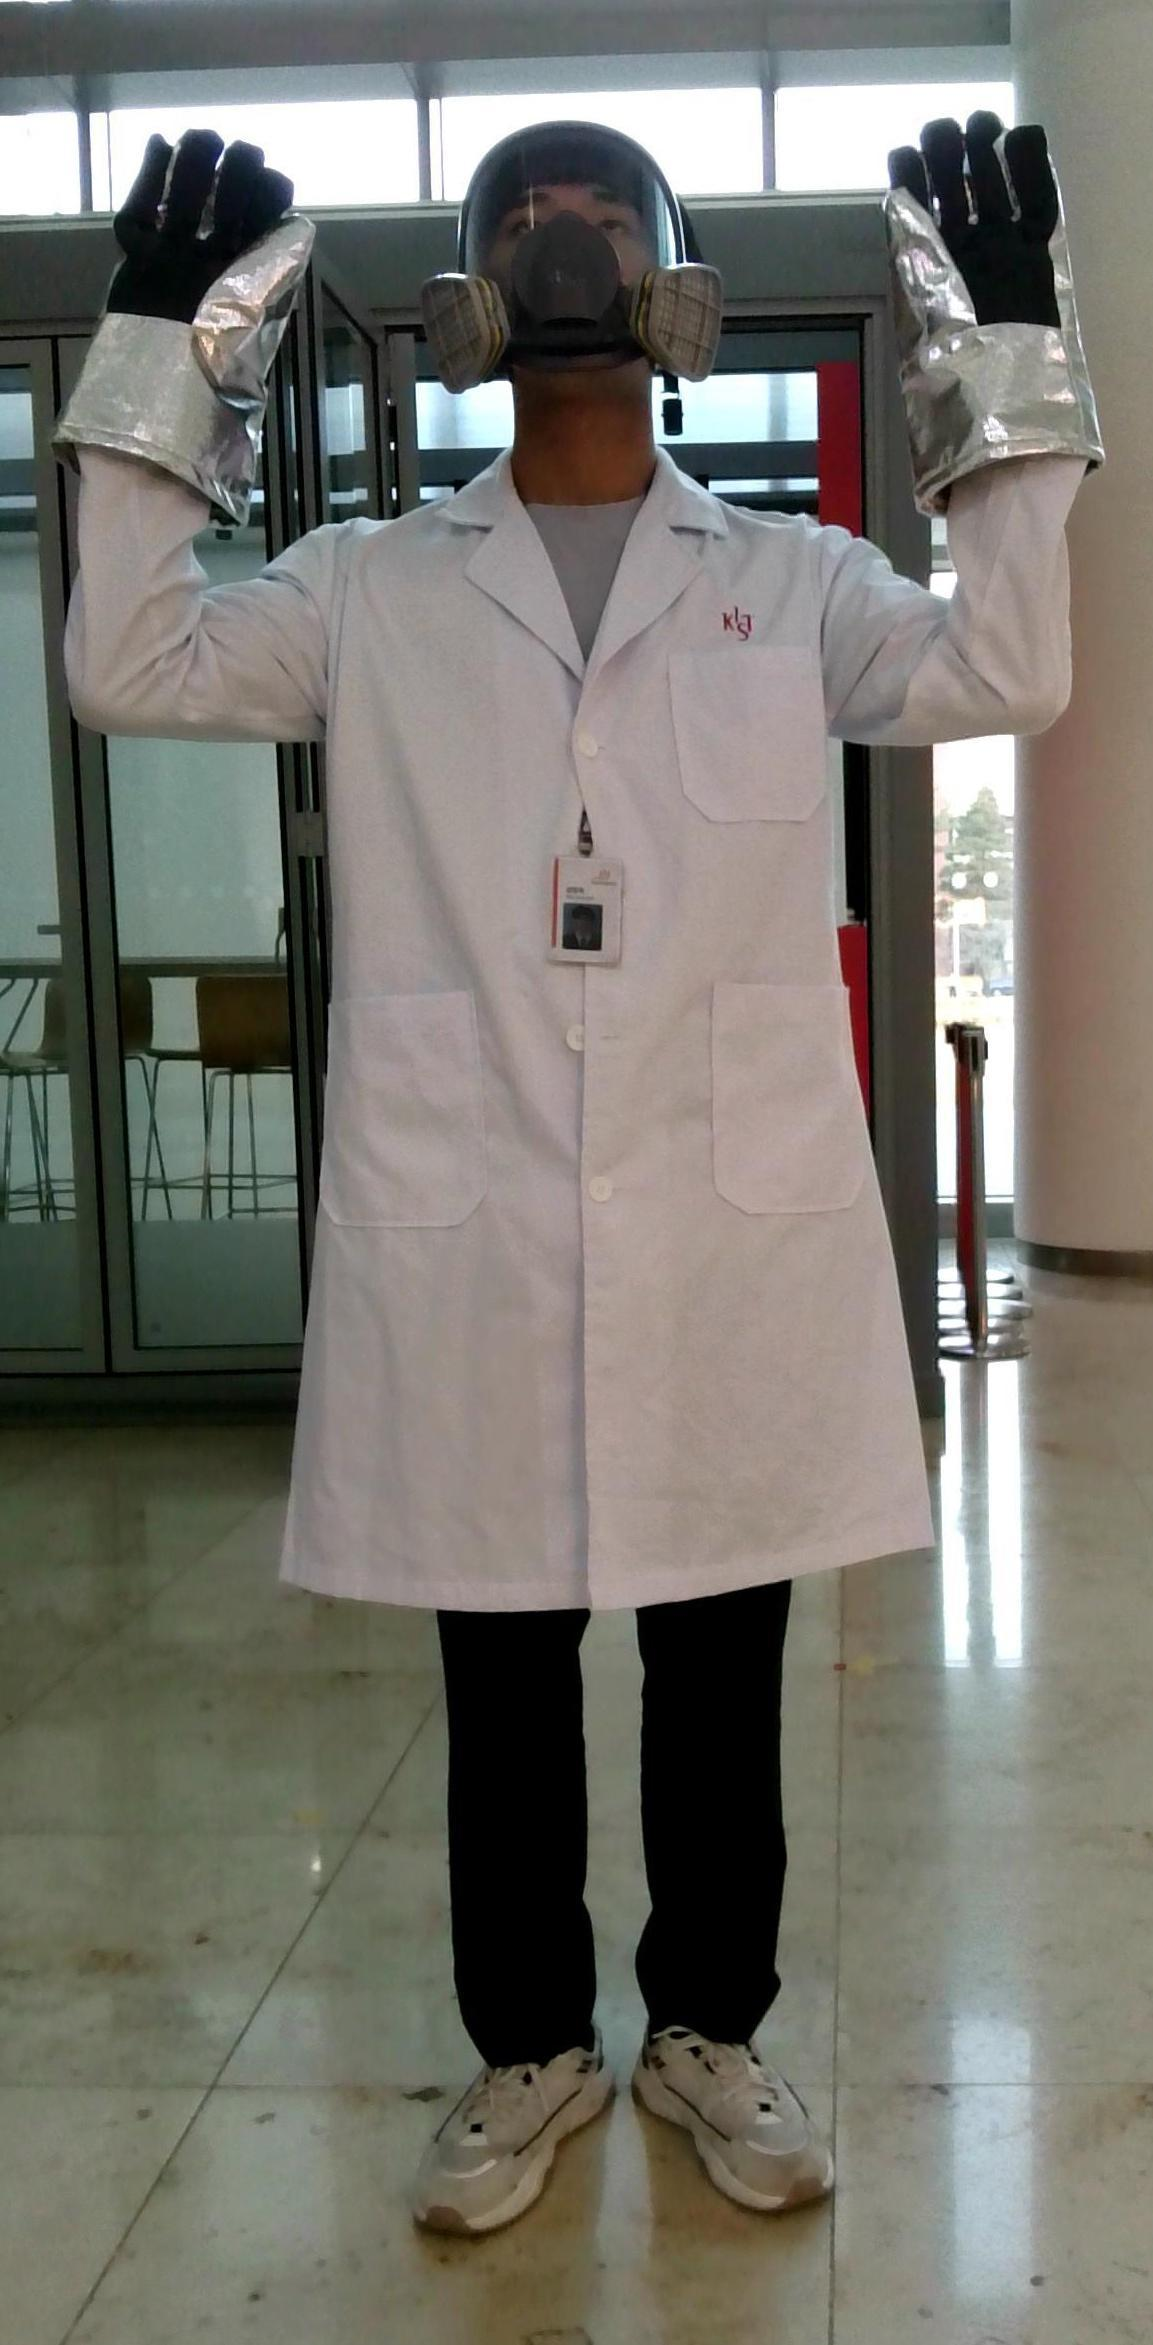lab_coat: (286, 497, 941, 1600)
